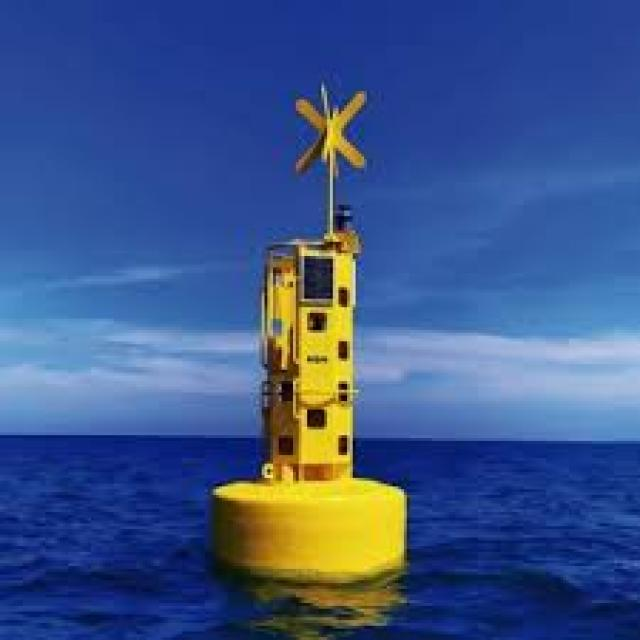buoy: (207, 80, 406, 581)
